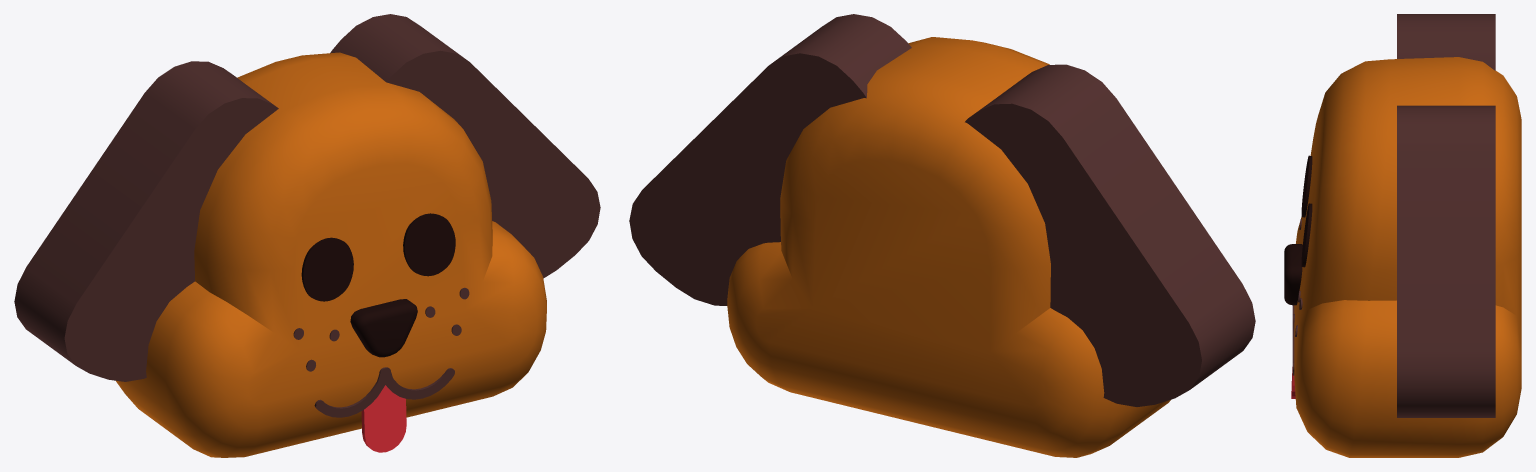
The model's file is Dog_Face.gltf.
3 renders of one model, left to right at view 1: azimuth 30°, elevation 25°; view 2: azimuth 150°, elevation 25°; view 3: azimuth 270°, elevation 25°, orthographic. The views are drawn at different scales.
Visible parts, largest first — view 1: Cube.6156, Cube.6158, Circle.1832, Cube.6157, Cube.6159, Circle.1833, Circle.1834; view 2: Cube.6156, Cube.6158; view 3: Cube.6156, Cube.6158, Cube.6157, Circle.1832.
Part boxes in pixels (x1,y1,x2,y2): Cube.6156: [116, 52, 546, 457]; Cube.6158: [14, 14, 600, 381]; Circle.1832: [301, 213, 455, 301]; Cube.6157: [350, 299, 417, 357]; Cube.6159: [361, 385, 406, 452]; Circle.1833: [314, 367, 454, 417]; Circle.1834: [293, 287, 469, 371]; Cube.6156: [727, 37, 1170, 457]; Cube.6158: [629, 14, 1255, 406]; Cube.6156: [1294, 57, 1521, 457]; Cube.6158: [1397, 14, 1495, 417]; Cube.6157: [1284, 244, 1302, 305]; Circle.1832: [1301, 155, 1312, 267].
Bounding box in the file's own units: 2.09 × 1.26 × 0.816.
4 materials, 1 textured.
